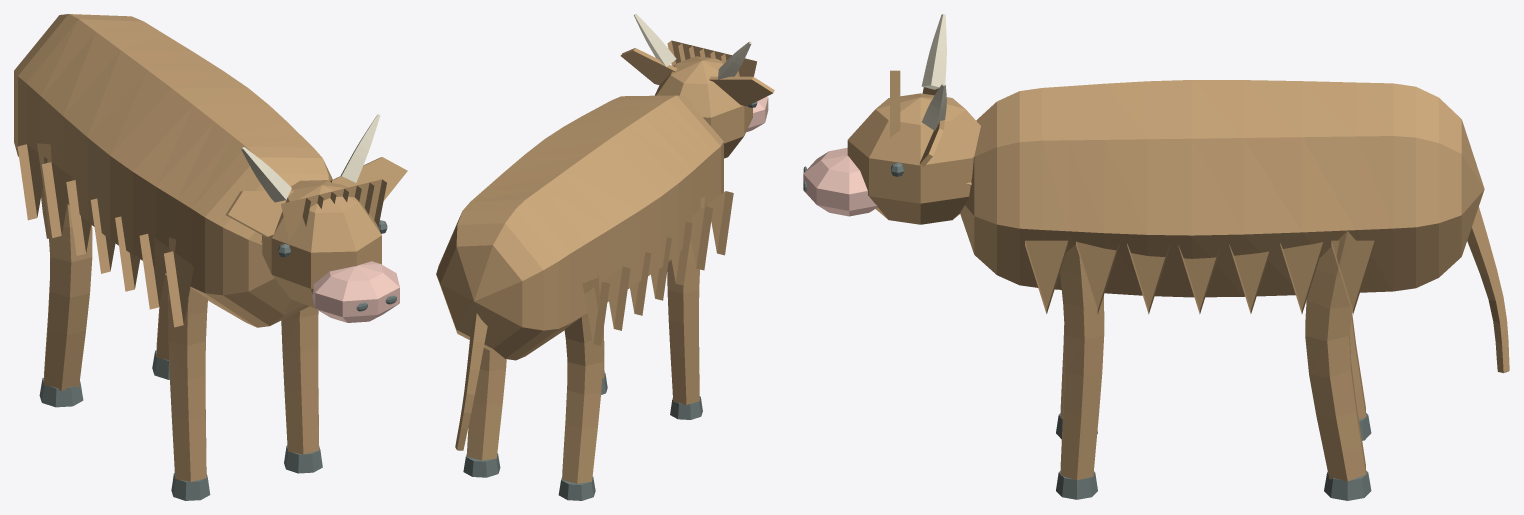
File: farm-livestock-and-barnyard-highland-cow-9854c07e__5012.glb
3 views of the same model, side by side, from view 1: azimuth 30°, elevation 25°; view 2: azimuth 150°, elevation 25°; view 3: azimuth 270°, elevation 25° (orthographic). The views are drawn at different scales.
Parts seen in each view (by area): view 1: highland-cow; view 2: highland-cow; view 3: highland-cow.
Part boxes in pixels (x1=…): highland-cow: x1=14, y1=14, x2=407, y2=500; highland-cow: x1=436, y1=14, x2=774, y2=500; highland-cow: x1=803, y1=14, x2=1509, y2=500.
Bounding box in the file's own units: 0.8582 × 1.79 × 2.77.
